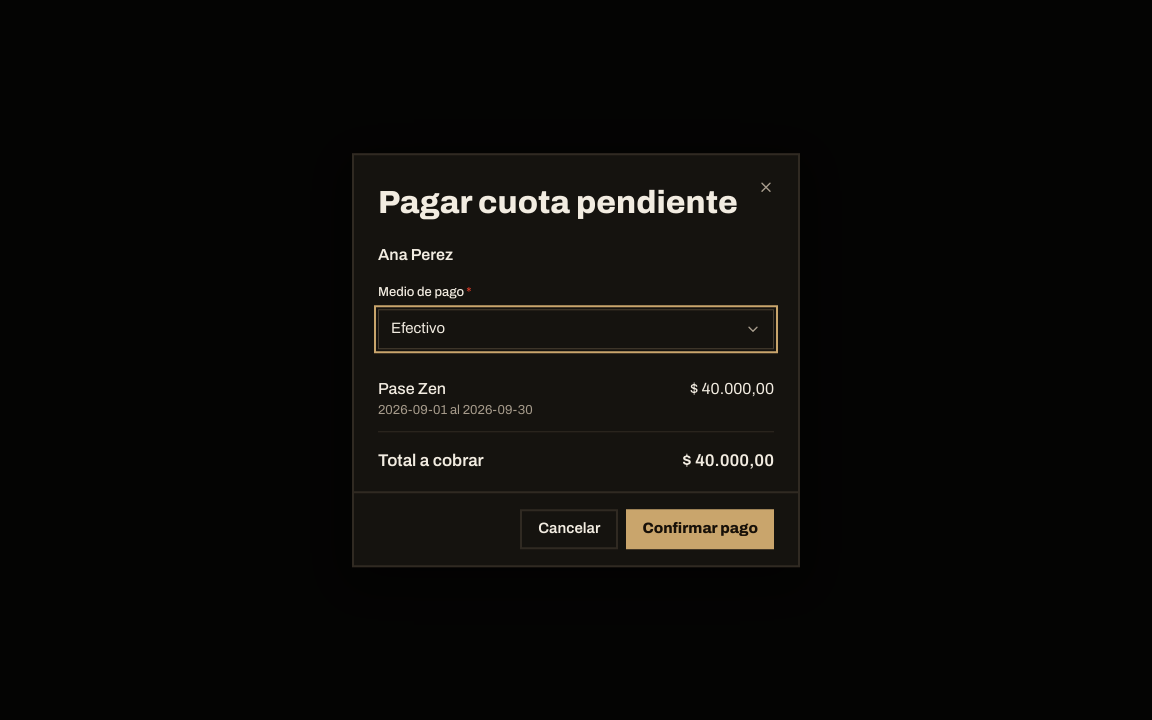
Test: Cobro de cuota calculada por el servidor › exige actualizar un saldo cambiado antes de reintentar
This screenshot has width=1152, height=720.
Click the button "Confirmar pago" at point(700, 529), box [626,509,774,549]
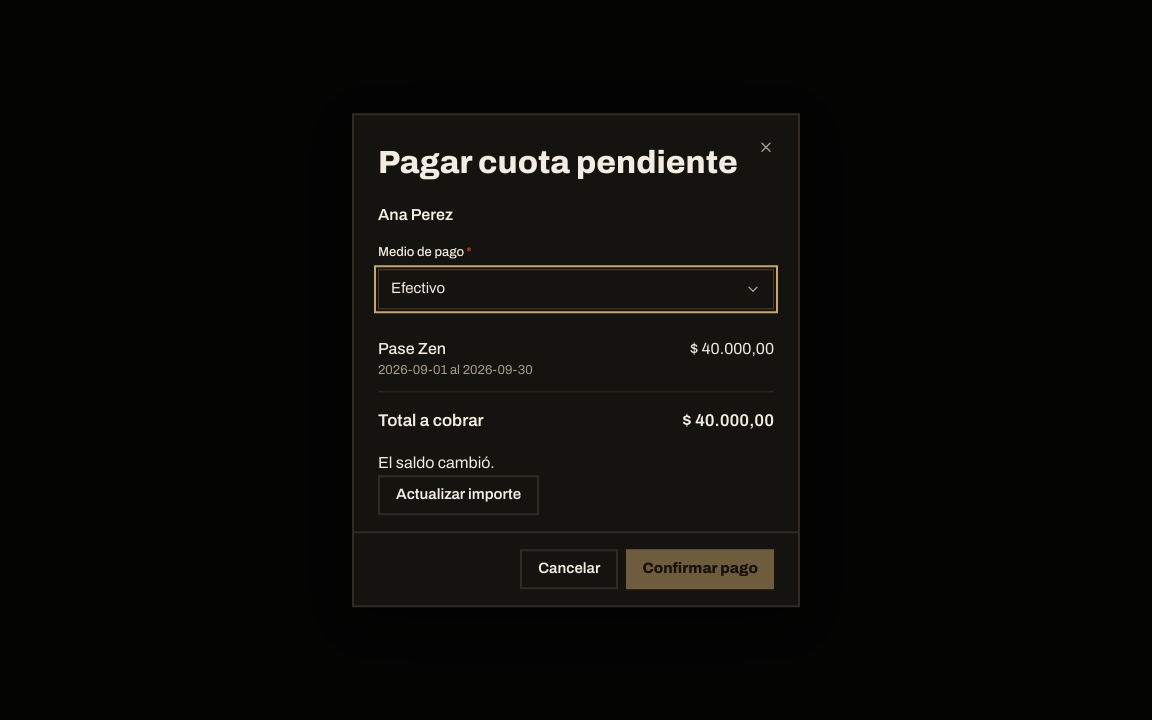
Check: the text "El saldo cambió." is shown, box [378,454,495,471]
Check: the button "Confirmar pago" is disabled, box [626,549,774,589]
Click the button "Actualizar importe" at point(459, 495), box [378,475,539,515]
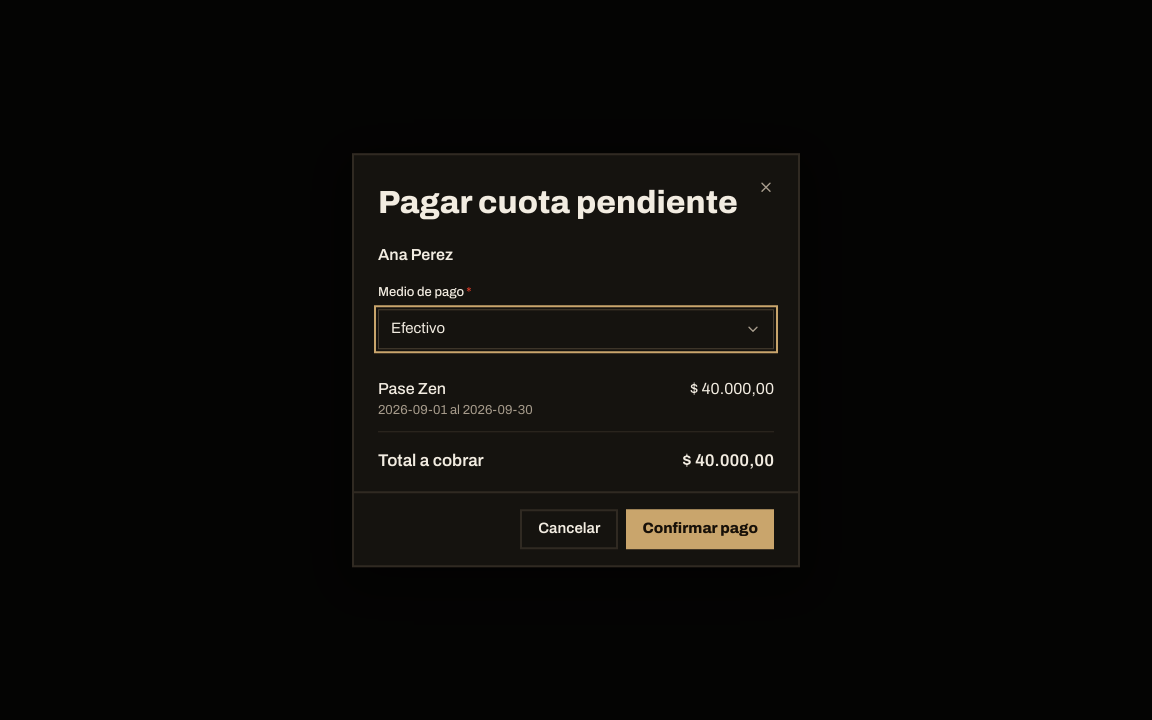
Check: the button "Confirmar pago" is enabled, box [626,509,774,549]
